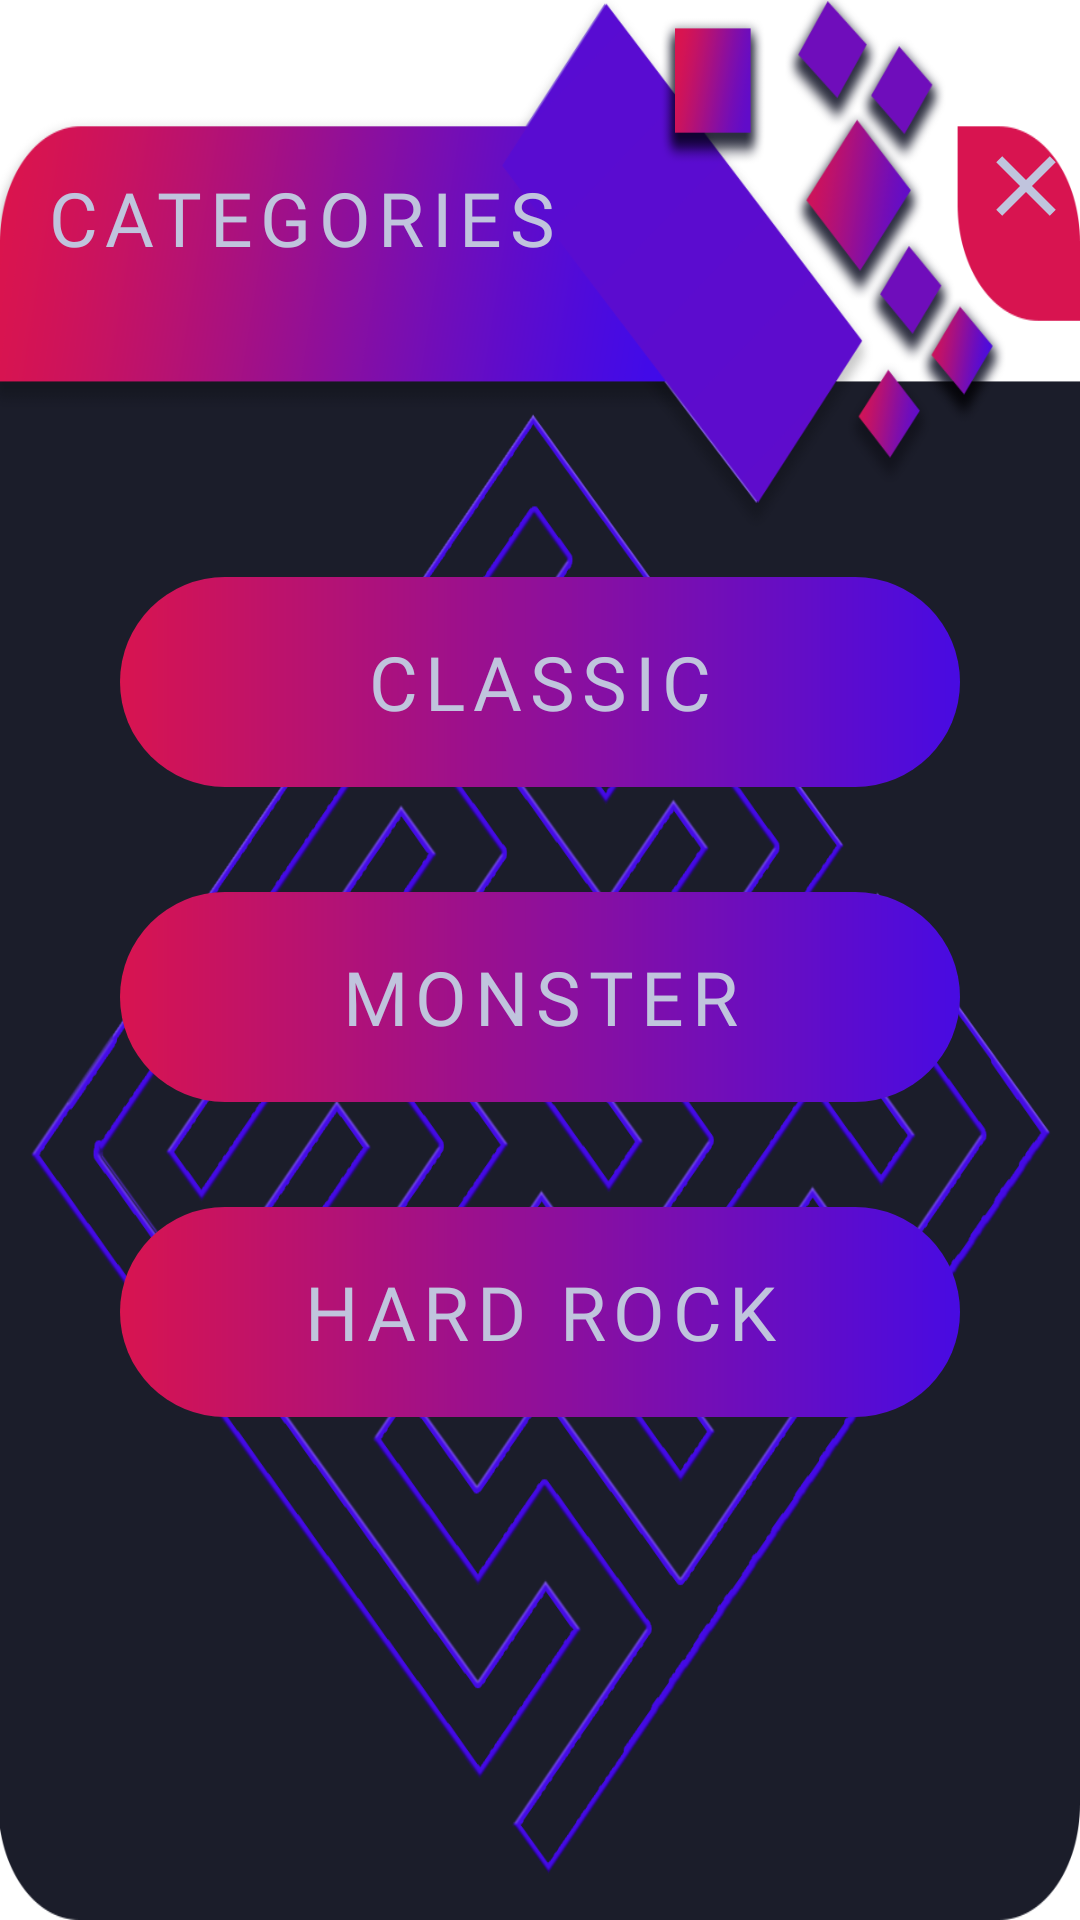

Named icons in this screenshot (1080 x 1920) and their bounding boxes, (x1, y1, x2, y2):
close: (996, 135, 1077, 216)
